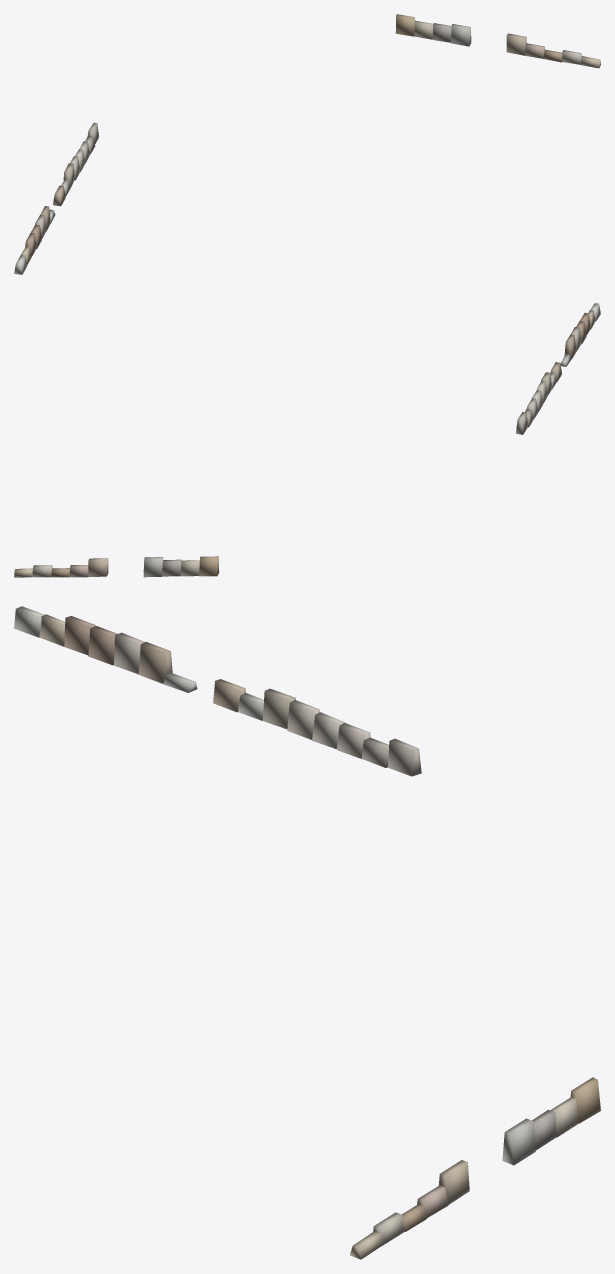
The model's file is farm_-50_-49_far.glb.
3 renders of one model, top to bottom at view 1: azimuth 30°, elevation 25°; view 2: azimuth 210°, elevation 25°; view 3: azimuth 270°, elevation 25°, orthographic. The views are drawn at different scales.
Parts seen in each view (by area): view 1: geometry_0; view 2: geometry_0; view 3: geometry_0.
Boxes of the visible parts, x1,y1,x2,y2 form: geometry_0: (14,14,600,274); geometry_0: (14,303,600,577); geometry_0: (14,606,600,1259).
Size of the model in its own units: 63.05 by 4.42 by 26.6.
